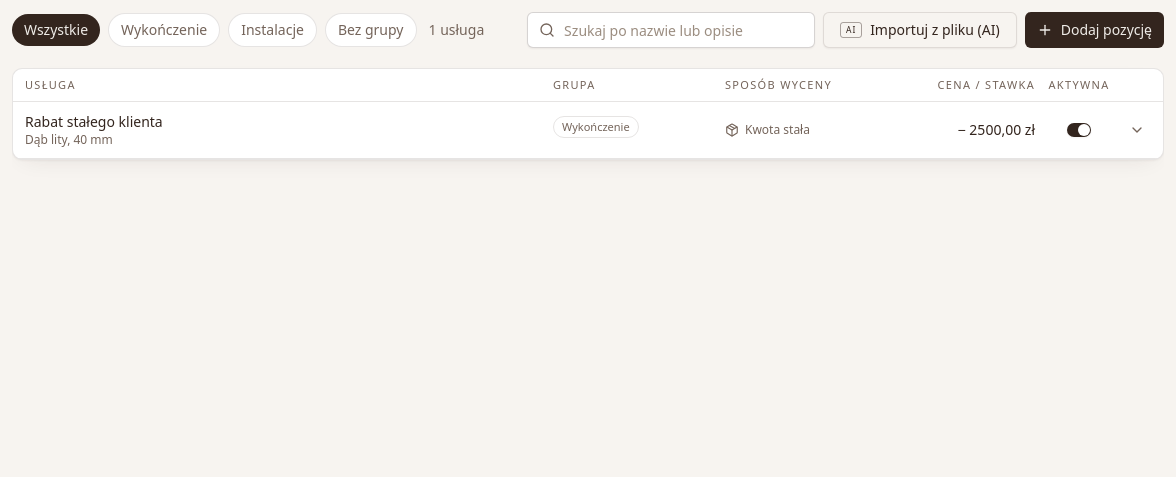
Test: LibraryItemsTab — edycja pozycji › rozpoznaje rabat: pokazuje znak minus przy kwocie
Click the button with aria-label "Rozwiń: Rabat stałego klienta". click: (94, 121)
box: [25, 112, 1035, 148]
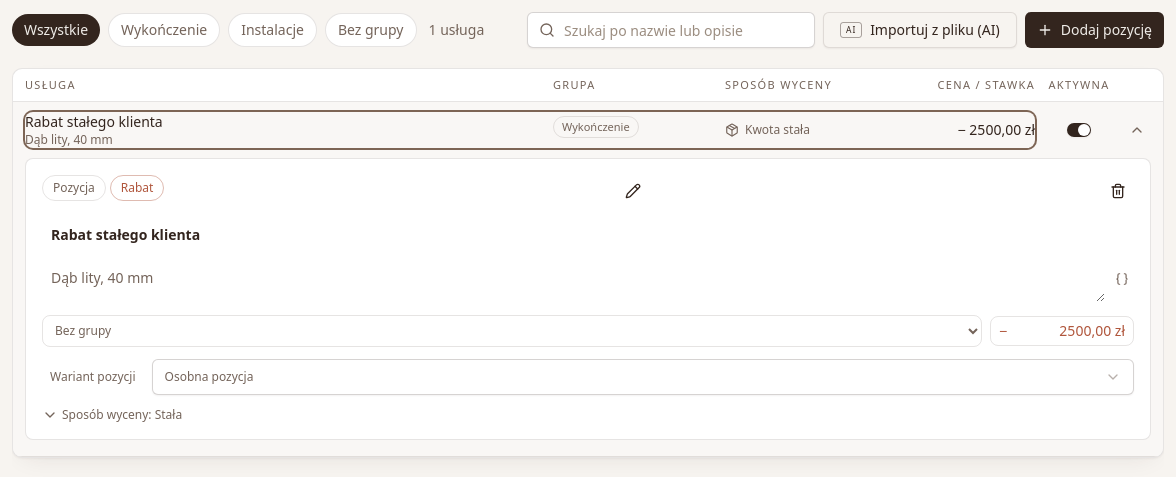
Expected: the text "−" is shown, [999, 321, 1007, 341]
Result: the button "Rabat" is shown at [110, 175, 164, 201]
